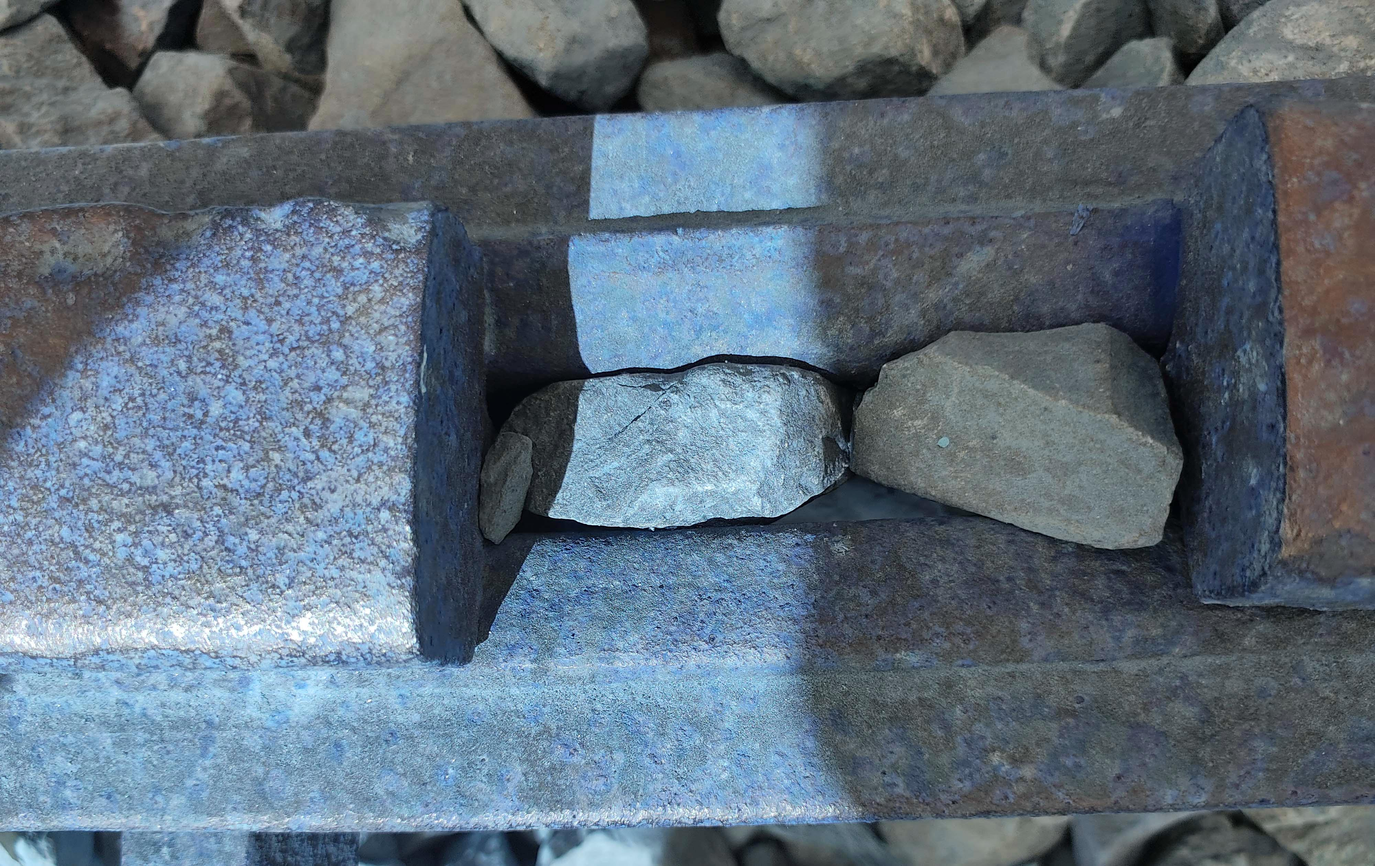duan lie: (400, 83, 1301, 687)
